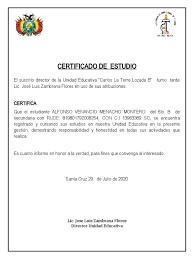certificado: (8, 7, 185, 252)
firma: (61, 196, 137, 232)
nombre: (52, 105, 150, 116)
